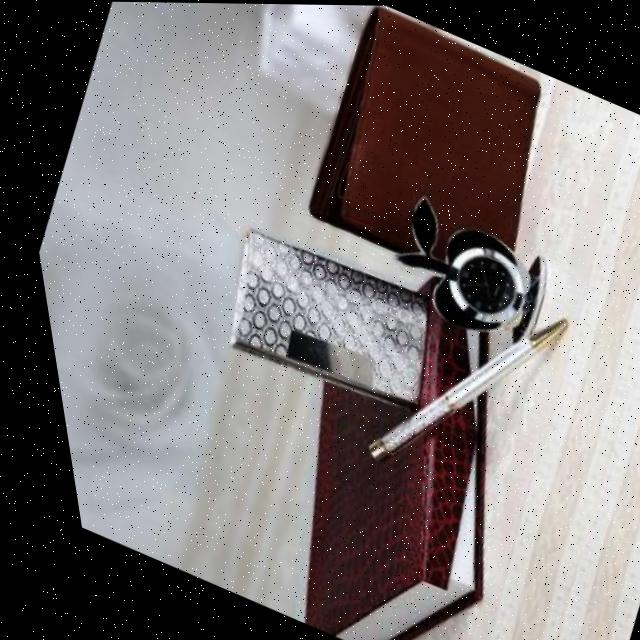cuzdan: (248, 3, 592, 306)
